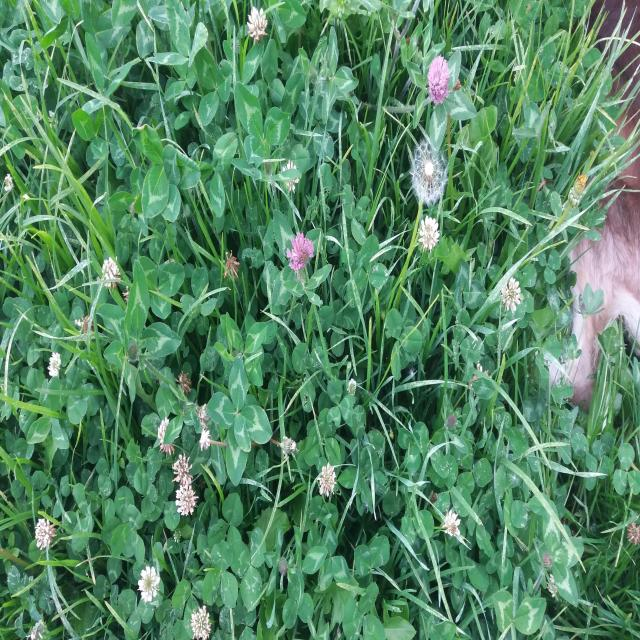Four Leaf Clover: (206, 352, 273, 487)
